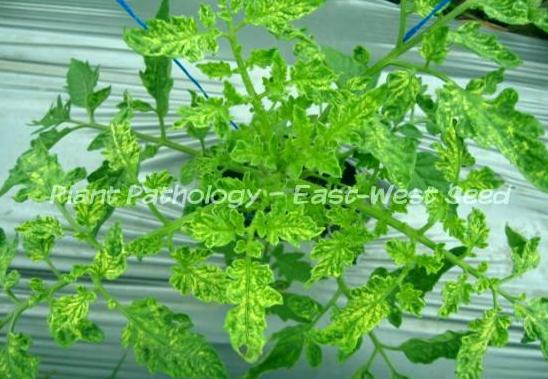Tomato leaf yellow virus: (453, 79, 548, 197), (120, 292, 226, 379), (292, 85, 392, 170), (299, 285, 404, 357), (125, 4, 222, 70), (223, 256, 275, 363), (308, 209, 374, 284), (6, 132, 74, 204), (447, 304, 508, 379), (437, 23, 525, 70), (236, 0, 349, 35), (490, 221, 548, 286), (95, 122, 151, 189), (364, 111, 414, 179), (165, 255, 231, 306), (18, 207, 64, 268), (50, 295, 103, 347), (185, 207, 247, 248), (261, 206, 322, 247), (92, 221, 130, 282), (174, 96, 229, 136), (456, 210, 494, 258)
